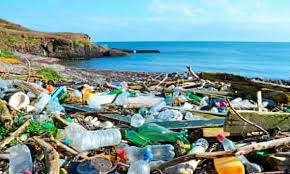plastic: (65, 120, 133, 155), (216, 133, 261, 174), (131, 120, 188, 144), (123, 141, 180, 163)
